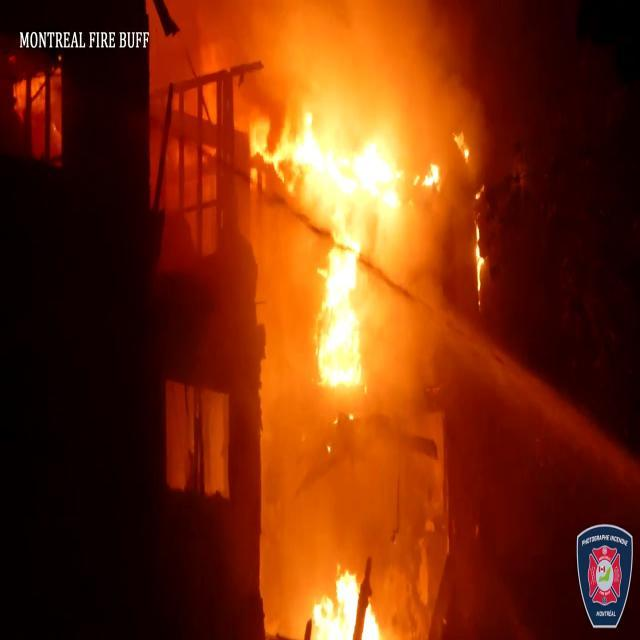Fire: (256, 78, 438, 394), (302, 554, 388, 640), (10, 62, 62, 152)
Smoke: (218, 0, 504, 186)
